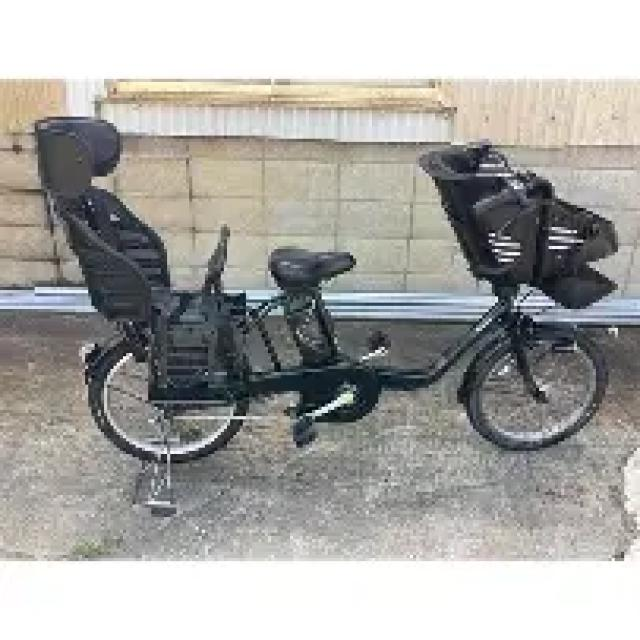battery: (284, 305, 338, 375)
childseat: (34, 111, 252, 410), (417, 136, 622, 314)
